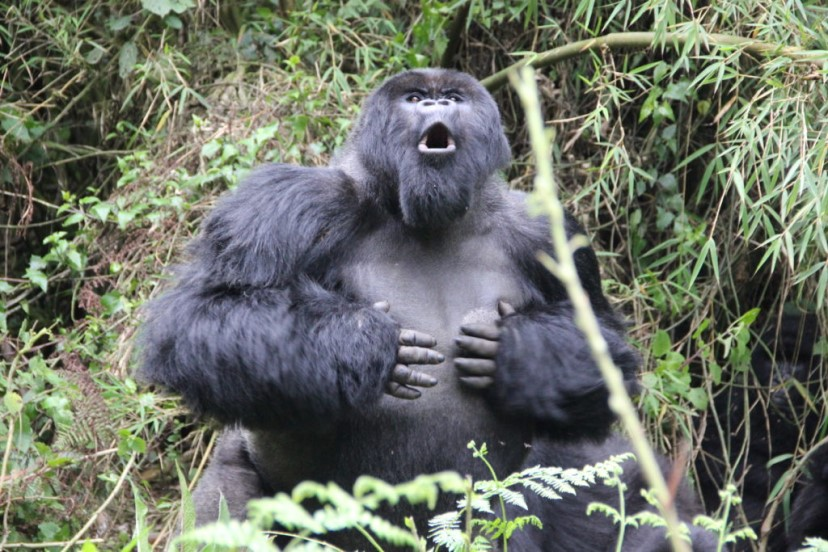Gorilla: (198, 66, 611, 533)
